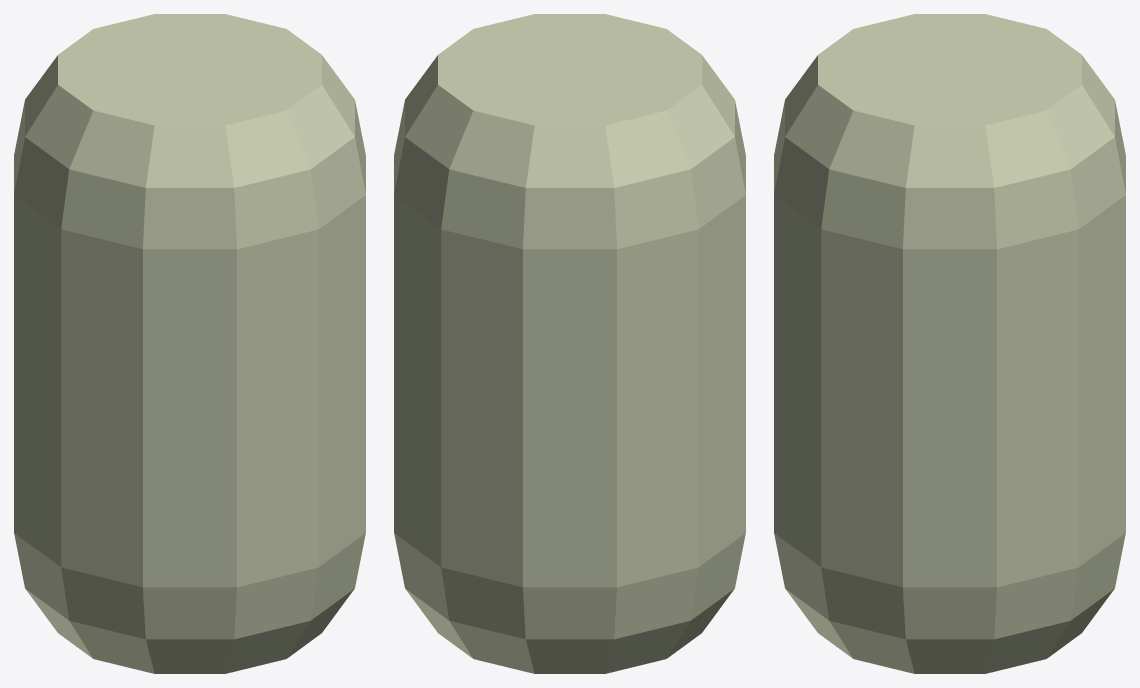
Rendered from mira_crew_s1_1_collider.obj.
The picture shows the model from 3 angles, left to right: view 1: azimuth 30°, elevation 25°; view 2: azimuth 150°, elevation 25°; view 3: azimuth 270°, elevation 25°; orthographic projection.
Parts seen in each view (by area): view 1: collider; view 2: collider; view 3: collider.
Part boxes in pixels (x1=…): collider: x1=14, y1=14, x2=365, y2=673; collider: x1=394, y1=14, x2=745, y2=673; collider: x1=774, y1=14, x2=1125, y2=673.
Size of the model in its own units: 1.25 by 2.15 by 1.25.
